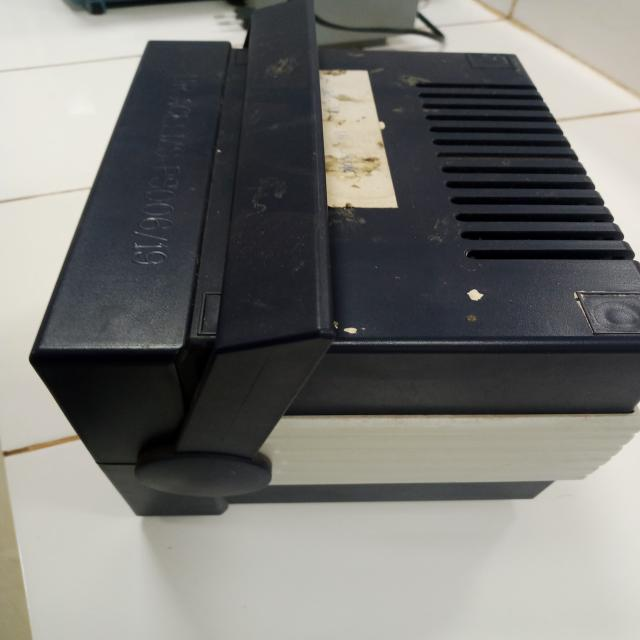Cobra 4 Xpert link Power Supply: (20, 15, 621, 533)
